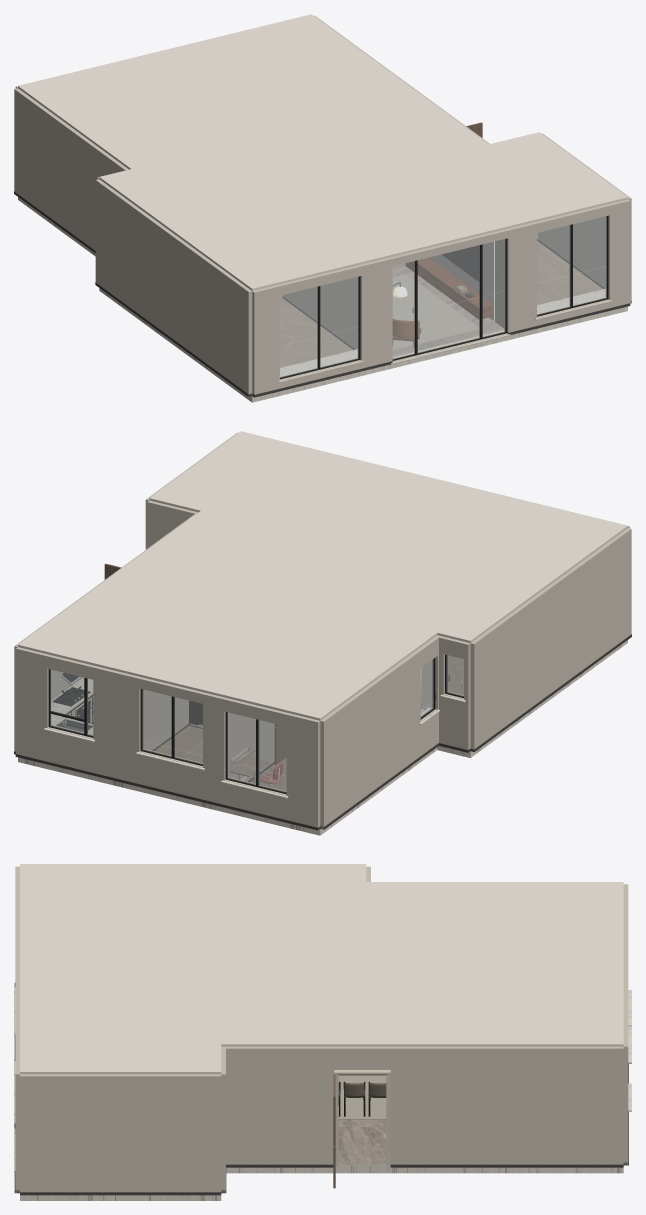
The model's file is apartment-v16.glb.
The picture shows the model from 3 angles, top to bottom: view 1: azimuth 30°, elevation 25°; view 2: azimuth 150°, elevation 25°; view 3: azimuth 270°, elevation 25°; orthographic projection. The views are drawn at different scales.
Parts seen in each view (by area): view 1: Ceiling_main, wall_west_south_0_0_upper, wall_west_south_0_0_lower, wall_west_north_0_0_upper, wall_west_north_0_0_lower, Living_south_glass_upper.001, Furniture_living_rug, Apartment_floor_slab, Living_south_glass_lower.001, floor_master, wall_master_living_4_0_lower, wall_east_south_0_0_lower (+35 smaller); view 2: Ceiling_main, wall_west_south_0_0_upper, wall_west_south_0_0_lower, wall_west_north_0_0_upper, wall_west_north_0_0_lower, wall_north_4_0_upper, Apartment_floor_slab, wall_north_0_0_upper, wall_north_6_0_upper, wall_north_3_0_lower, wall_north_4_0_lower, Kitchen_north_glass_upper.001 (+25 smaller); view 3: Ceiling_main, wall_east_north_0_0_upper, wall_east_south_0_0_upper, wall_east_north_0_0_lower, wall_east_south_0_0_lower, wall_east_elevator_0_0_upper, wall_east_elevator_0_0_lower, Apartment_floor_slab, Continuous_public_stone, Furniture_dining_rug, wall_east_north_1_1_upper, skirting_east_north_0 (+3 smaller).
Boxes of the visible parts, x1,y1,x2,y2 form: Ceiling_main: (18,14,627,290); wall_west_south_0_0_upper: (95,179,252,353); wall_west_south_0_0_lower: (95,242,252,393); wall_west_north_0_0_upper: (14,88,111,209); wall_west_north_0_0_lower: (14,151,95,250); Living_south_glass_upper.001: (417,245,479,312); Furniture_living_rug: (392,273,479,350); Apartment_floor_slab: (18,197,627,402); Living_south_glass_lower.001: (417,297,479,353); floor_master: (280,296,352,367); wall_master_living_4_0_lower: (282,285,357,349); wall_east_south_0_0_lower: (537,224,631,303); Ceiling_main: (18,431,627,720); wall_west_south_0_0_upper: (470,528,631,707); wall_west_south_0_0_lower: (470,593,631,749); wall_west_north_0_0_upper: (320,650,420,785); wall_west_north_0_0_lower: (320,715,420,829); wall_north_4_0_upper: (93,666,143,742); Apartment_floor_slab: (18,640,627,835); wall_north_0_0_upper: (286,713,320,785); wall_north_6_0_upper: (16,647,51,719); wall_north_3_0_lower: (139,749,202,799); wall_north_4_0_lower: (93,731,143,783); Kitchen_north_glass_upper.001: (50,669,84,726); Ceiling_main: (20,864,623,1074); wall_east_north_0_0_upper: (390,1046,623,1118); wall_east_south_0_0_upper: (20,1074,221,1146); wall_east_north_0_0_lower: (390,1118,623,1164); wall_east_south_0_0_lower: (20,1146,221,1192); wall_east_elevator_0_0_upper: (221,1046,328,1118); wall_east_elevator_0_0_lower: (226,1118,328,1164); Apartment_floor_slab: (20,1165,623,1200); Continuous_public_stone: (338,1119,386,1165); Furniture_dining_rug: (338,1075,386,1119); wall_east_north_1_1_upper: (334,1046,390,1069); skirting_east_north_0: (390,1164,623,1167).
Bounding box in the file's own units: 10.72 × 3.04 × 13.2.
56 materials, 16 textured.
